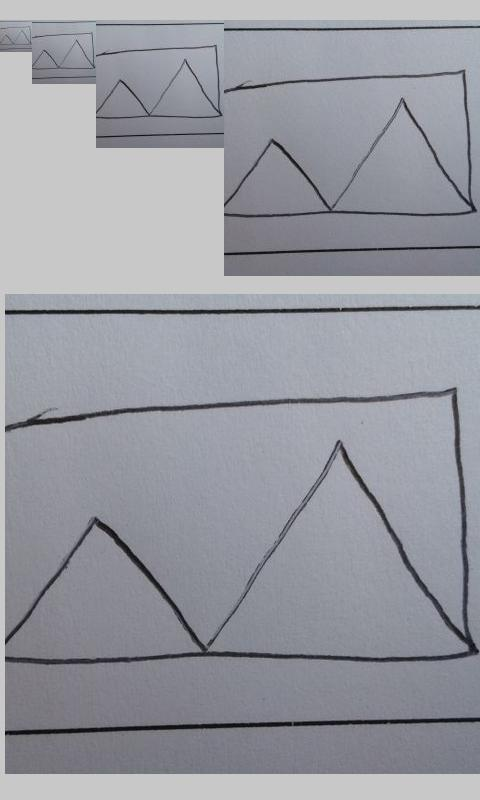image_view: (8, 384, 480, 674), (226, 70, 477, 221), (96, 44, 222, 122), (33, 32, 95, 71), (1, 26, 32, 46)
